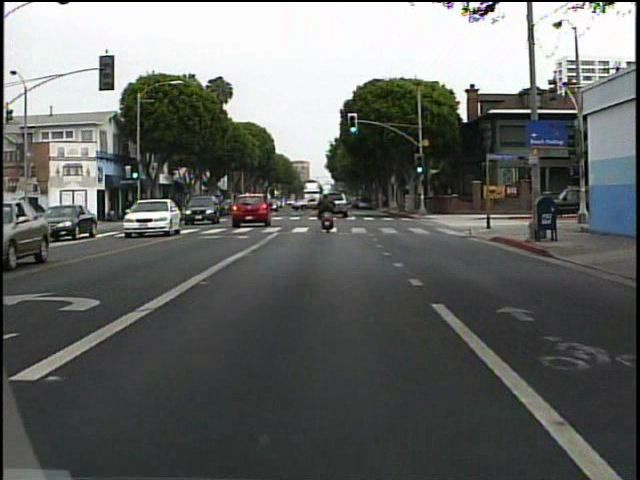person: (312, 186, 343, 241)
